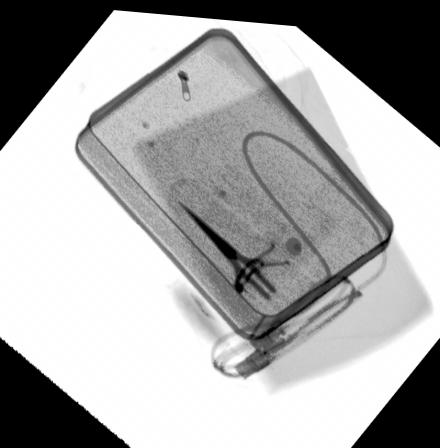Scissors: (177, 196, 317, 325)
